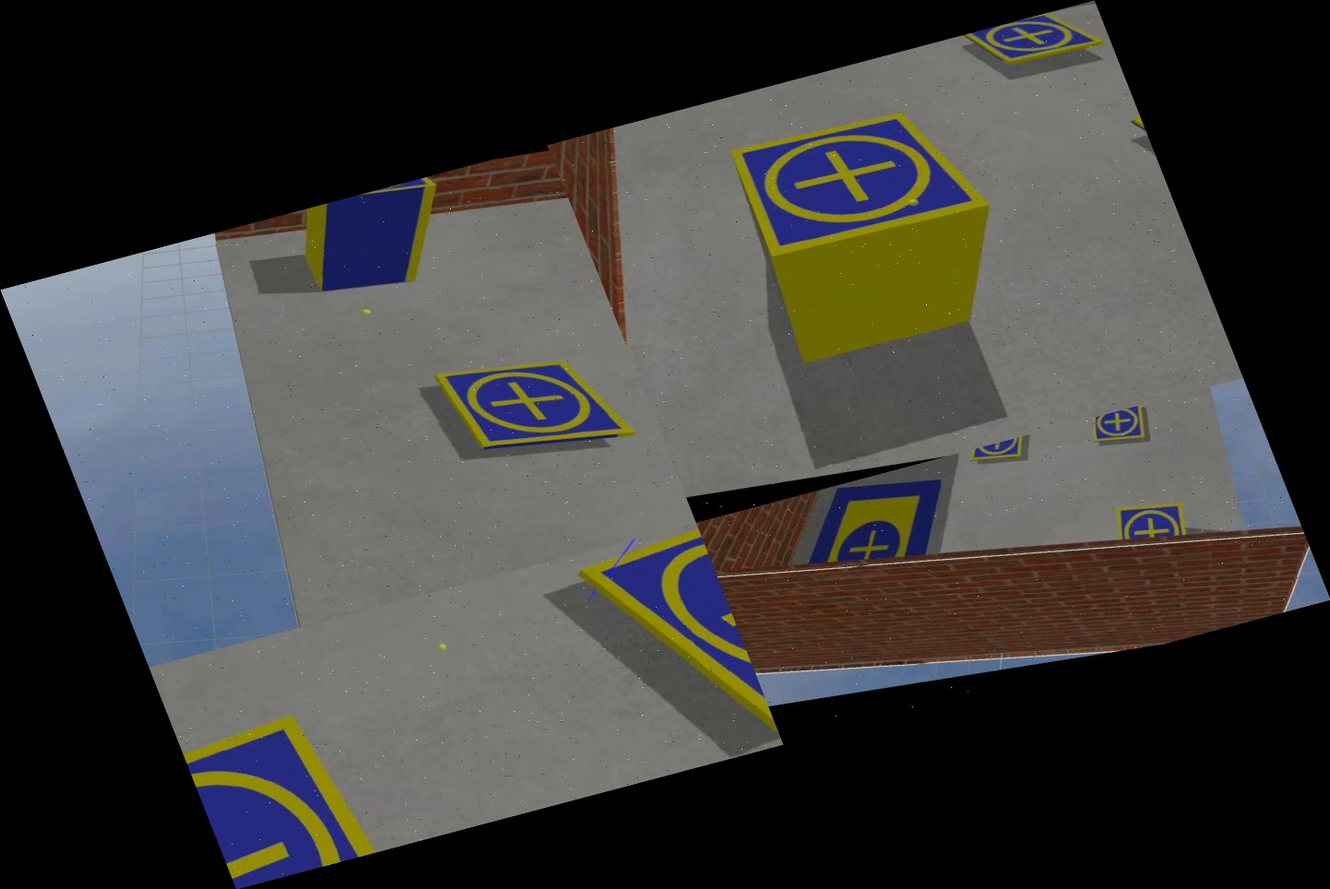large_base: (781, 459, 968, 587)
small_base: (543, 522, 783, 782), (711, 79, 1011, 281), (169, 671, 409, 888), (422, 326, 649, 480), (958, 1, 1110, 83), (323, 174, 441, 217), (1109, 492, 1194, 551), (1086, 404, 1155, 450), (967, 434, 1037, 470)
